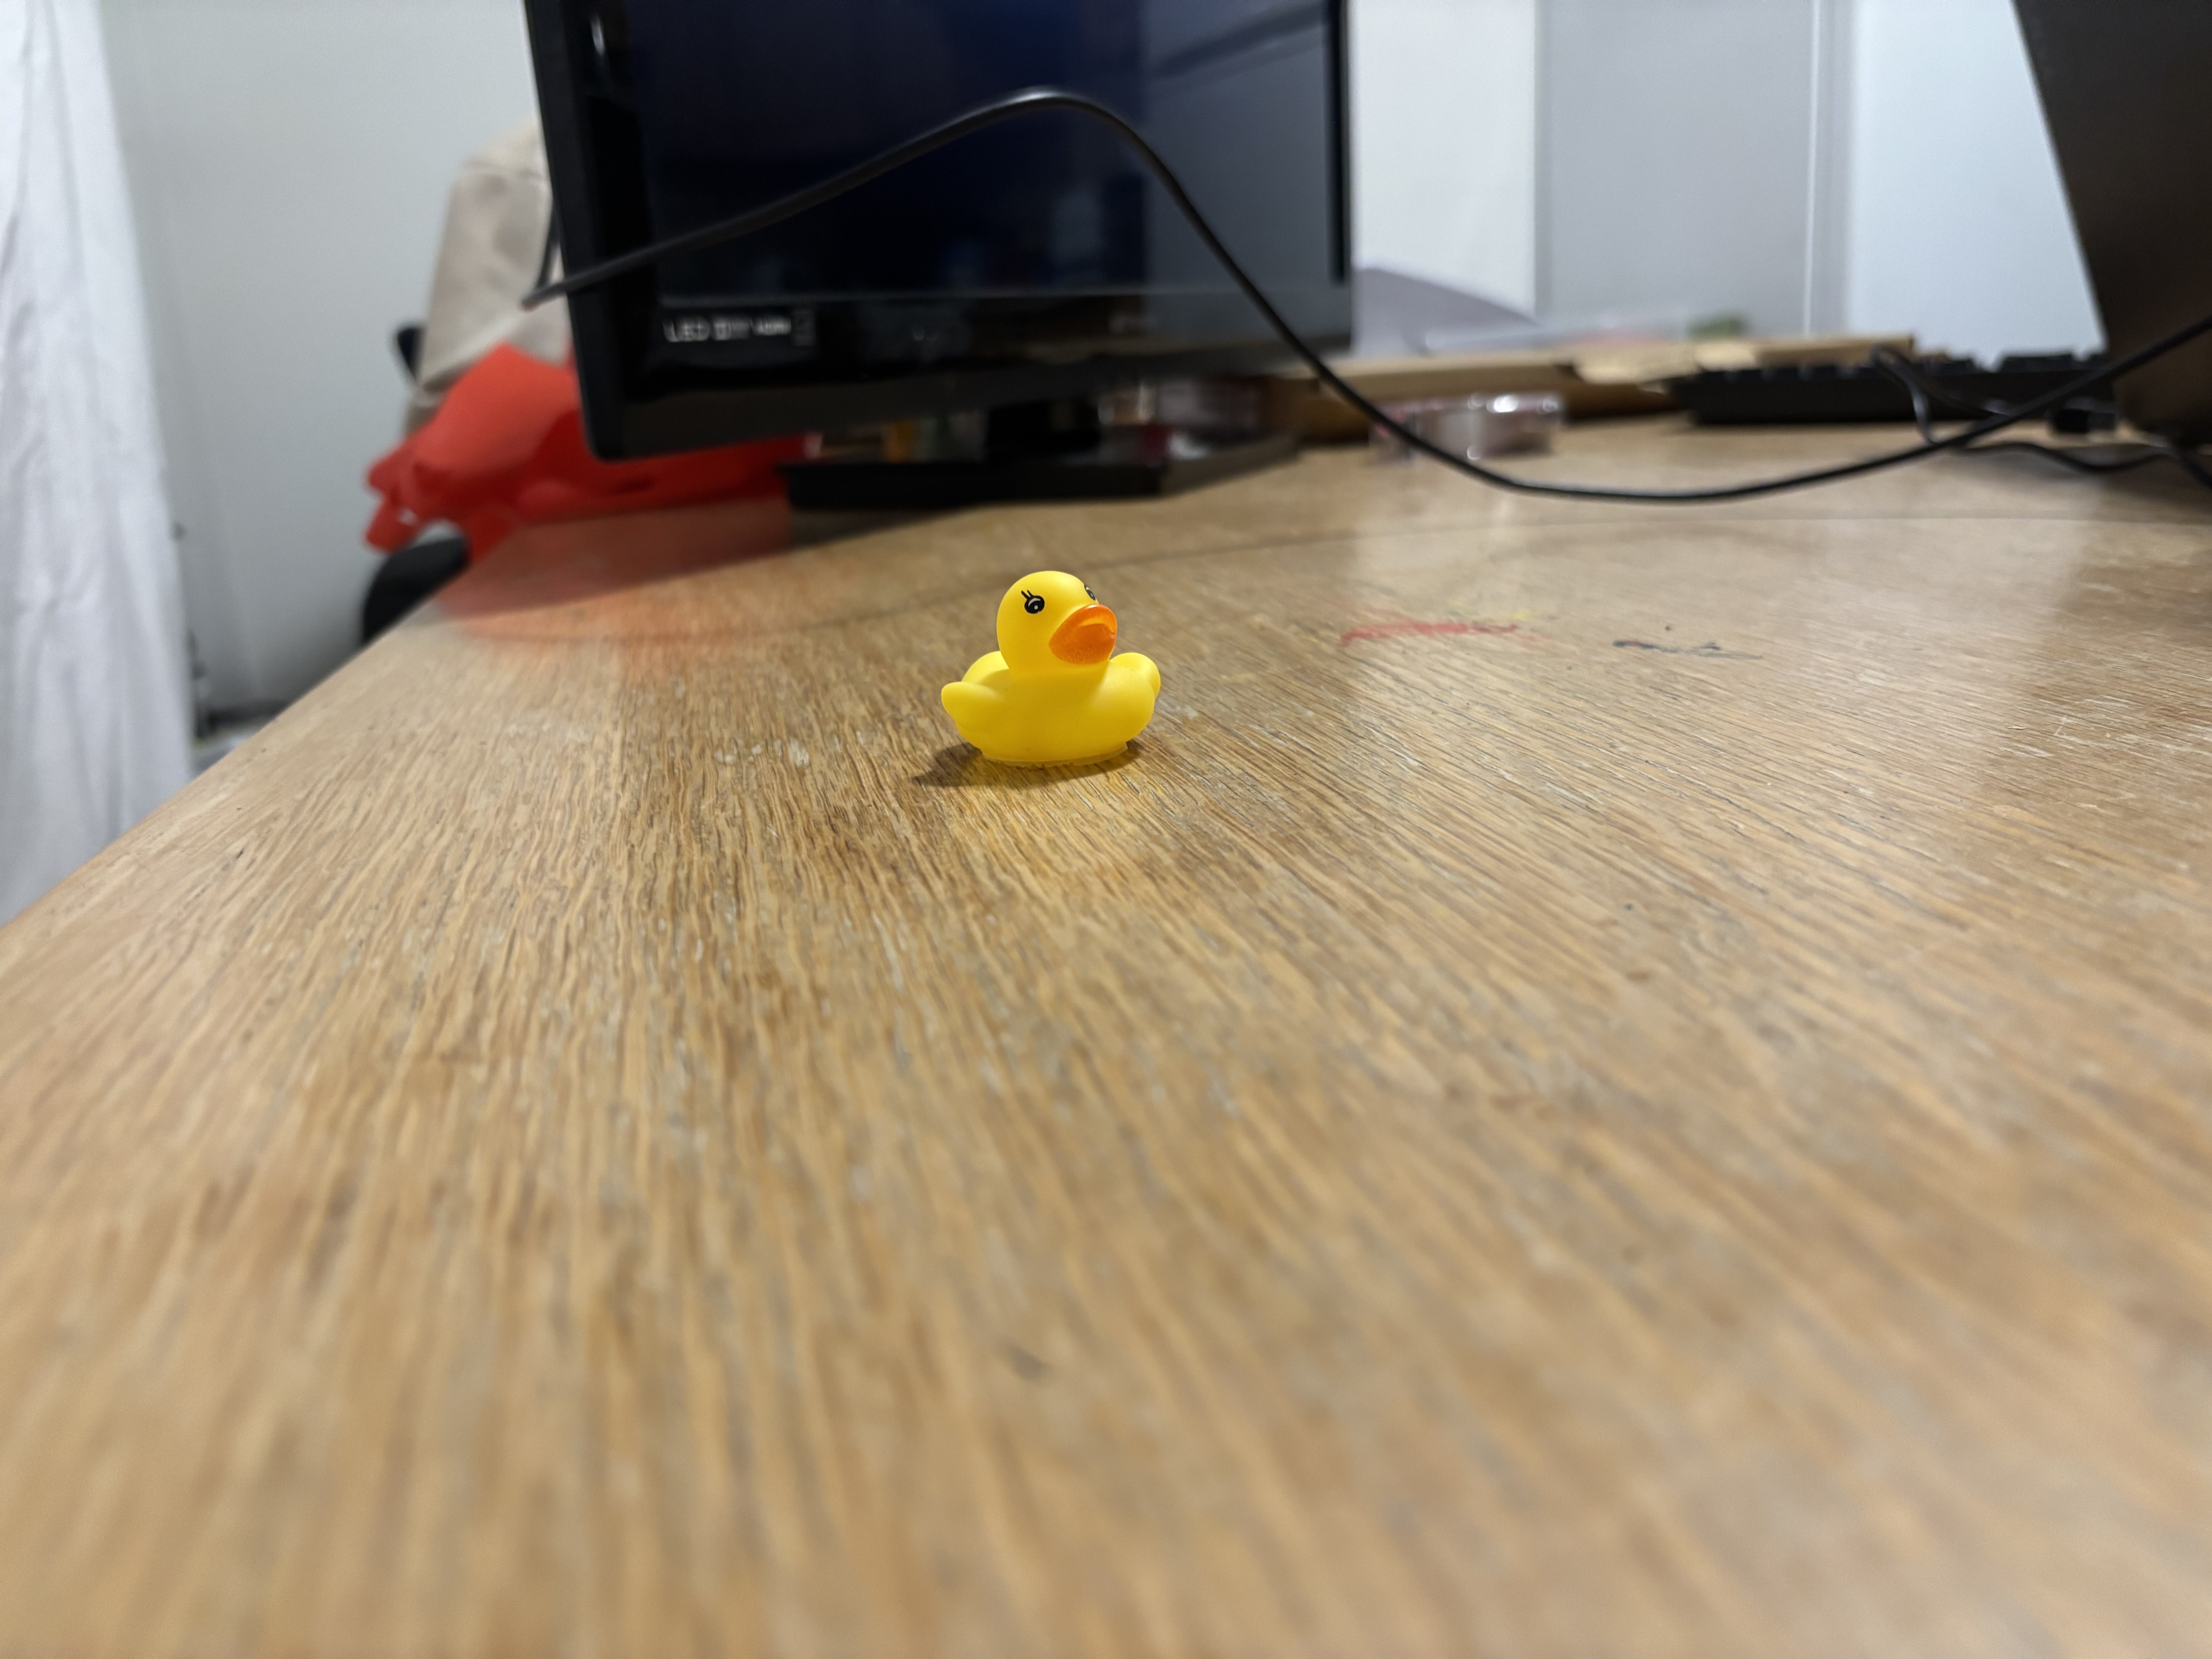duck_regular: (935, 572, 1174, 802)
